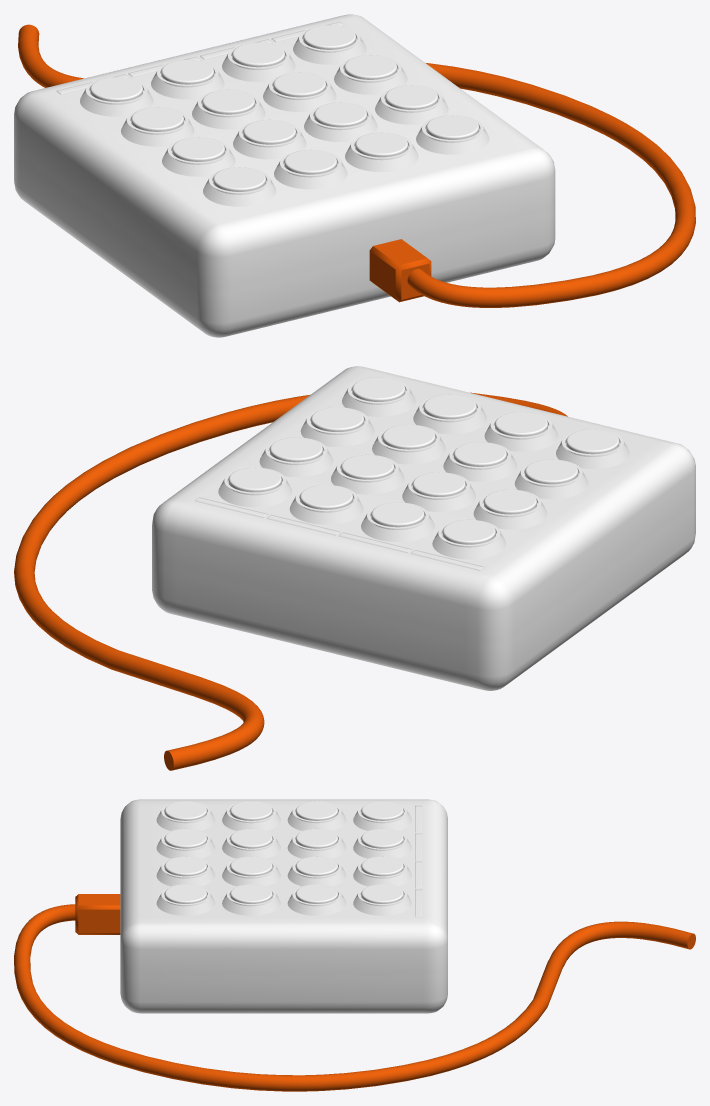
Rendered from MidiFighter.obj.
The picture shows the model from 3 angles, top to bottom: view 1: azimuth 30°, elevation 25°; view 2: azimuth 150°, elevation 25°; view 3: azimuth 270°, elevation 25°; orthographic projection. The views are drawn at different scales.
Visible parts, largest first — view 1: 立方体_1, スイープ, 立方体, 円錐_2, 円錐_3, 円錐_0, 円錐_1, 円錐_6, 円錐_15, 円錐_10, 円錐_14, 円錐_11 (+23 smaller); view 2: 立方体_1, スイープ, 円錐_15, 円錐_13, 円錐_12, 円錐_14, 円錐_2, 円錐_4, 円錐_3, 円錐_0, 円錐_10, 円錐_11 (+22 smaller); view 3: 立方体_1, スイープ, 立方体, 円錐_7, 円錐_15, 円錐_11, 円錐_3, 円錐_5, 円錐_13, 円錐_1, 円錐_9, 円錐_12 (+23 smaller).
Part boxes in pixels (x1=…): 立方体_1: x1=14, y1=14, x2=555, y2=337; スイープ: x1=18, y1=24, x2=695, y2=307; 立方体: x1=369, y1=239, x2=431, y2=302; 円錐_2: x1=345, y1=132, x2=418, y2=171; 円錐_3: x1=416, y1=115, x2=489, y2=154; 円錐_0: x1=203, y1=167, x2=276, y2=206; 円錐_1: x1=274, y1=149, x2=347, y2=188; 円錐_6: x1=304, y1=102, x2=377, y2=141; 円錐_15: x1=293, y1=25, x2=366, y2=64; 円錐_10: x1=263, y1=72, x2=336, y2=111; 円錐_14: x1=222, y1=42, x2=295, y2=81; 円錐_11: x1=334, y1=55, x2=407, y2=94; 立方体_1: x1=152, y1=366, x2=695, y2=690; スイープ: x1=14, y1=392, x2=567, y2=770; 円錐_15: x1=218, y1=467, x2=291, y2=506; 円錐_13: x1=361, y1=502, x2=434, y2=541; 円錐_12: x1=432, y1=519, x2=505, y2=559; 円錐_14: x1=290, y1=485, x2=363, y2=524; 円錐_2: x1=413, y1=394, x2=486, y2=433; 円錐_4: x1=515, y1=459, x2=588, y2=498; 円錐_3: x1=342, y1=377, x2=415, y2=416; 円錐_0: x1=556, y1=429, x2=629, y2=468; 円錐_10: x1=331, y1=454, x2=404, y2=494; 円錐_11: x1=260, y1=437, x2=332, y2=476; 立方体_1: x1=120, y1=799, x2=447, y2=1013; スイープ: x1=14, y1=904, x2=692, y2=1091; 立方体: x1=75, y1=894, x2=120, y2=934; 円錐_7: x1=222, y1=884, x2=280, y2=915; 円錐_15: x1=353, y1=884, x2=411, y2=915; 円錐_11: x1=288, y1=884, x2=345, y2=915; 円錐_3: x1=157, y1=884, x2=214, y2=915; 円錐_5: x1=222, y1=828, x2=280, y2=858; 円錐_13: x1=353, y1=828, x2=411, y2=858; 円錐_1: x1=157, y1=828, x2=214, y2=858; 円錐_9: x1=288, y1=828, x2=345, y2=858; 円錐_12: x1=353, y1=801, x2=411, y2=830.
Bounding box in the file's own units: 15.11 × 3.52 × 20.81.
